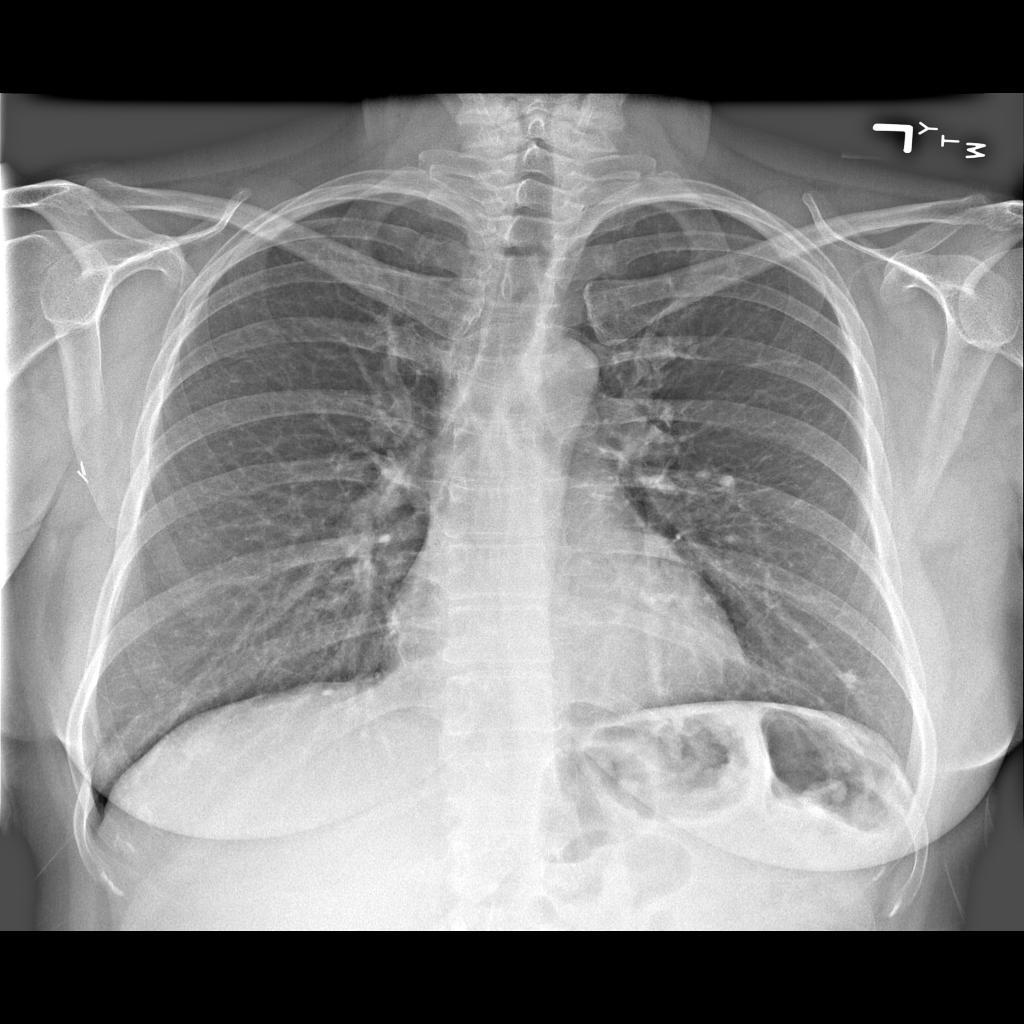Nodule: (839, 670, 865, 698)
